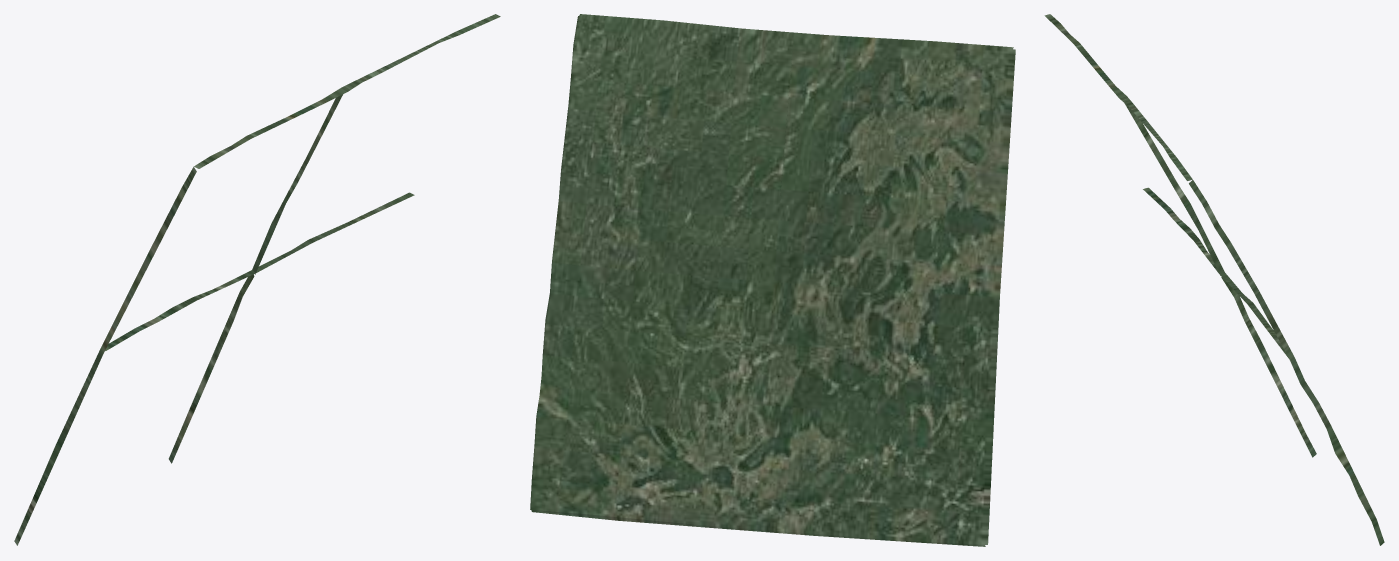
3 renders of one model, left to right at view 1: azimuth 30°, elevation 25°; view 2: azimuth 150°, elevation 25°; view 3: azimuth 270°, elevation 25°, orthographic. The views are drawn at different scales.
Size of the model in its own units: 628345 by 572655 by 450263.
1 material, 1 textured.
